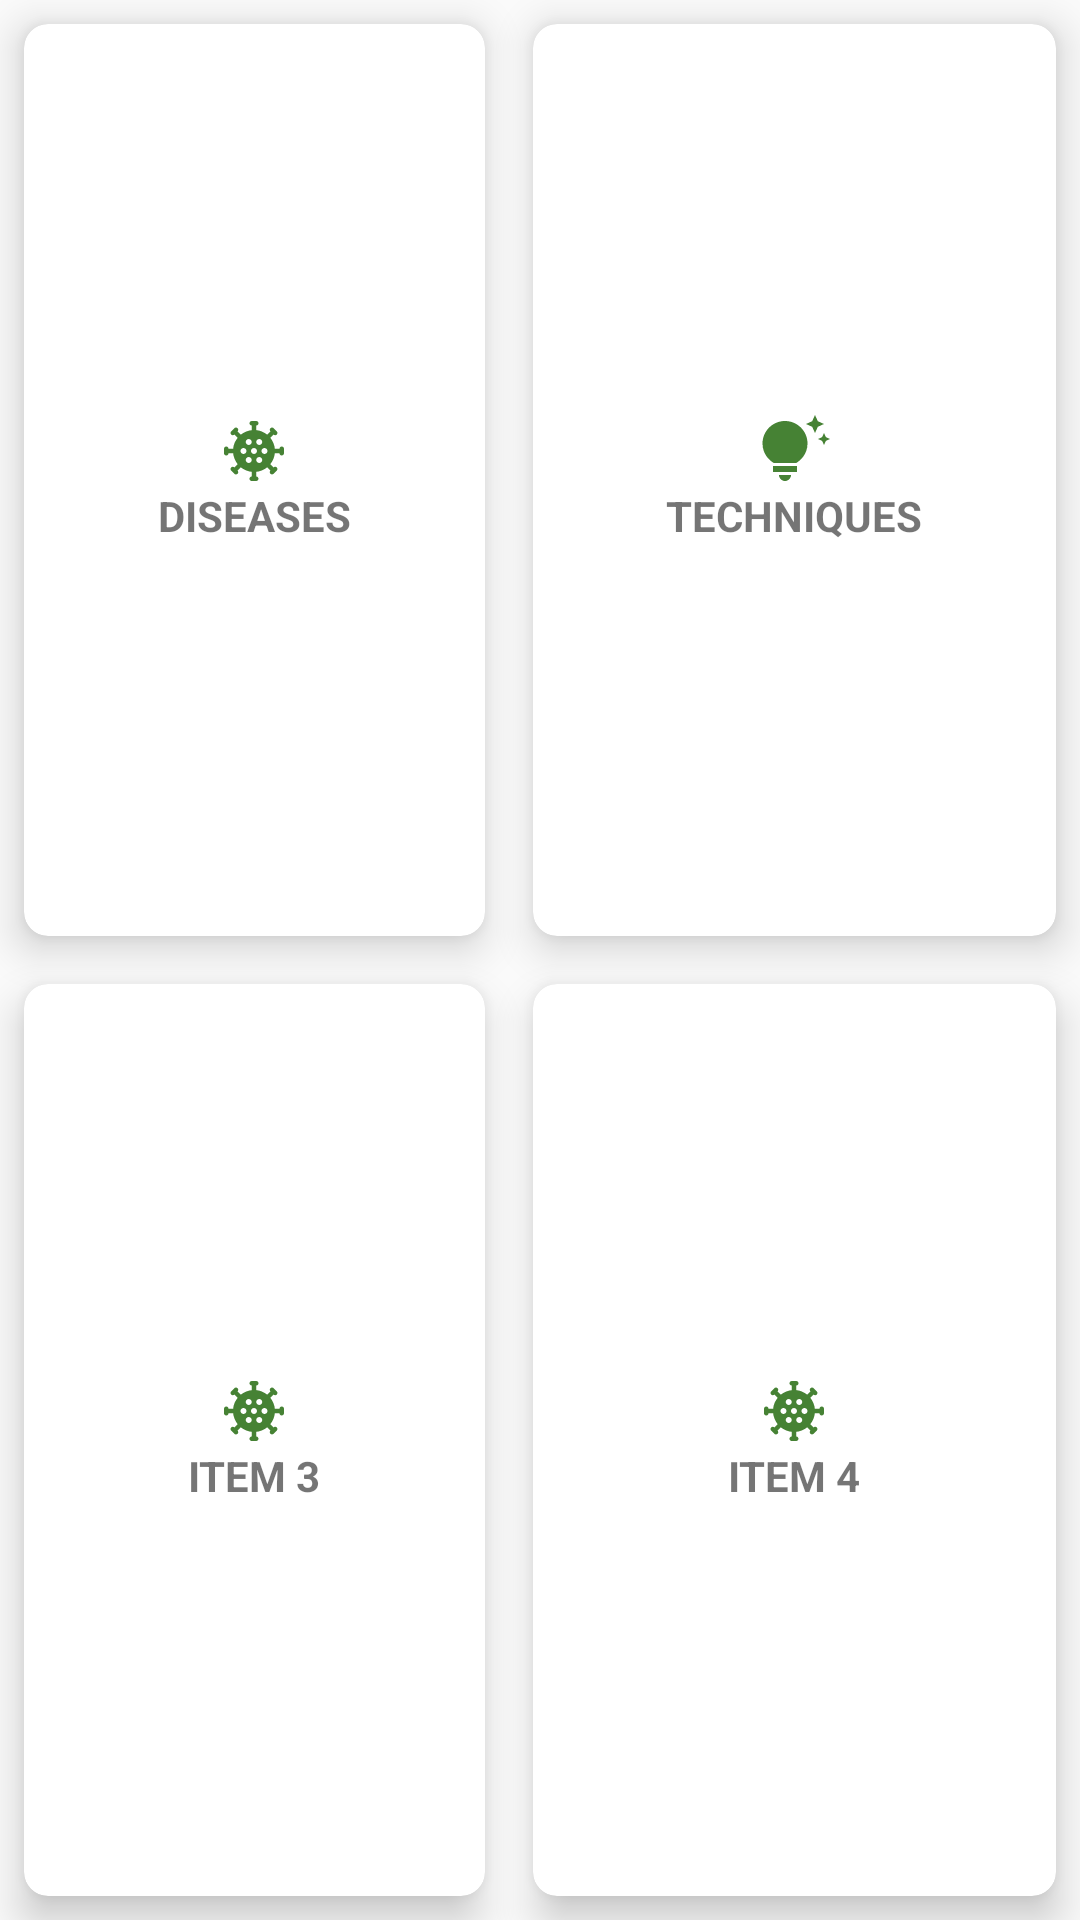

Screen size 1080 × 1920. Icon name, then its center in pixels as (x,y):
coronavirus: (254,451), (254,1411), (794,1411)
tips and updates: (796,448)
